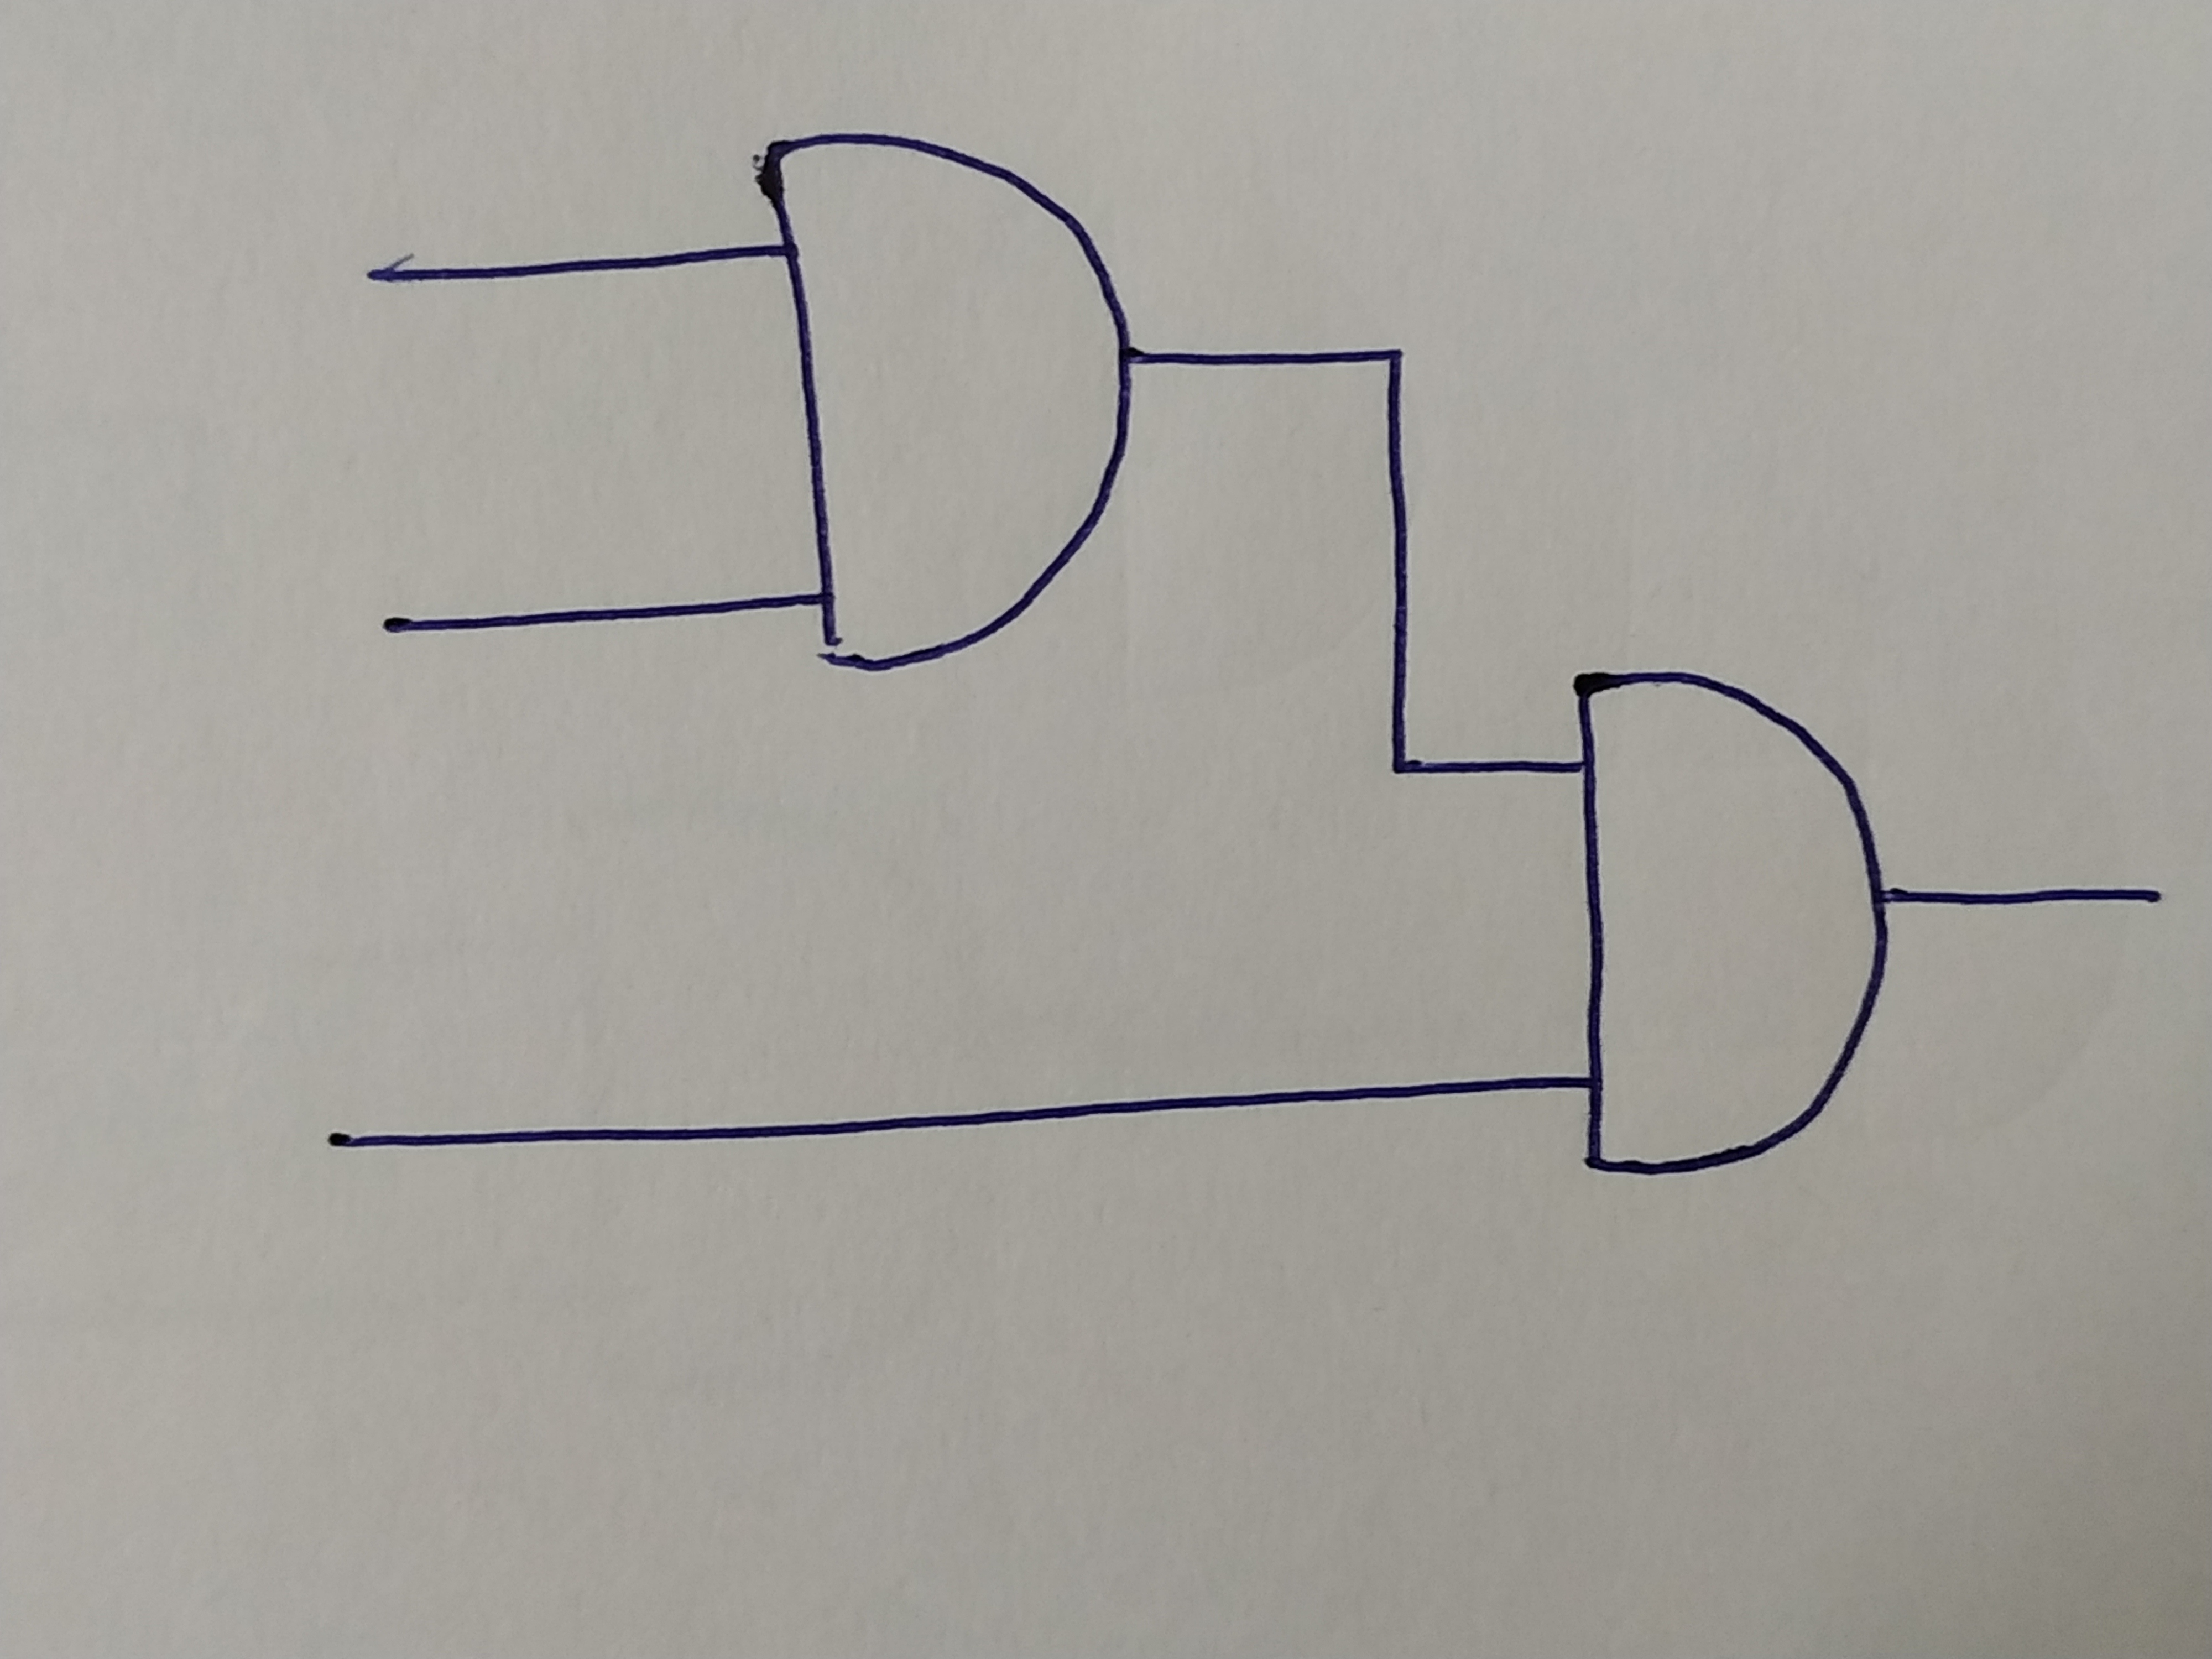and: (761, 131, 1143, 671), (1578, 678, 1886, 1171)
